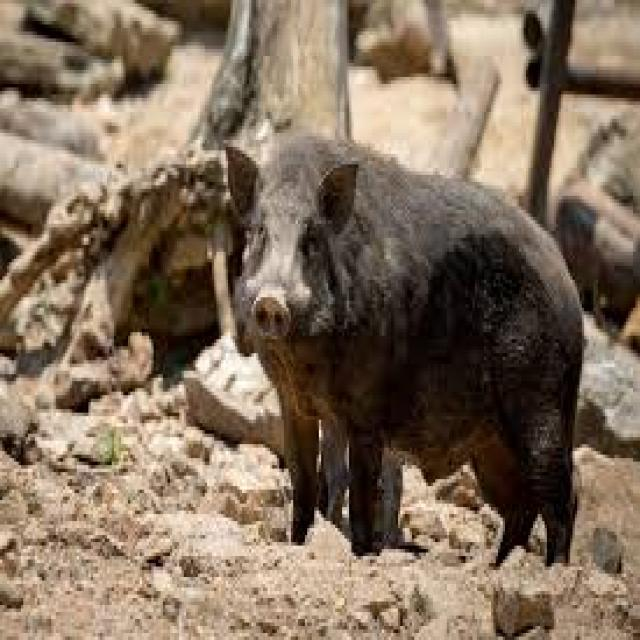boar: (175, 89, 640, 640)
